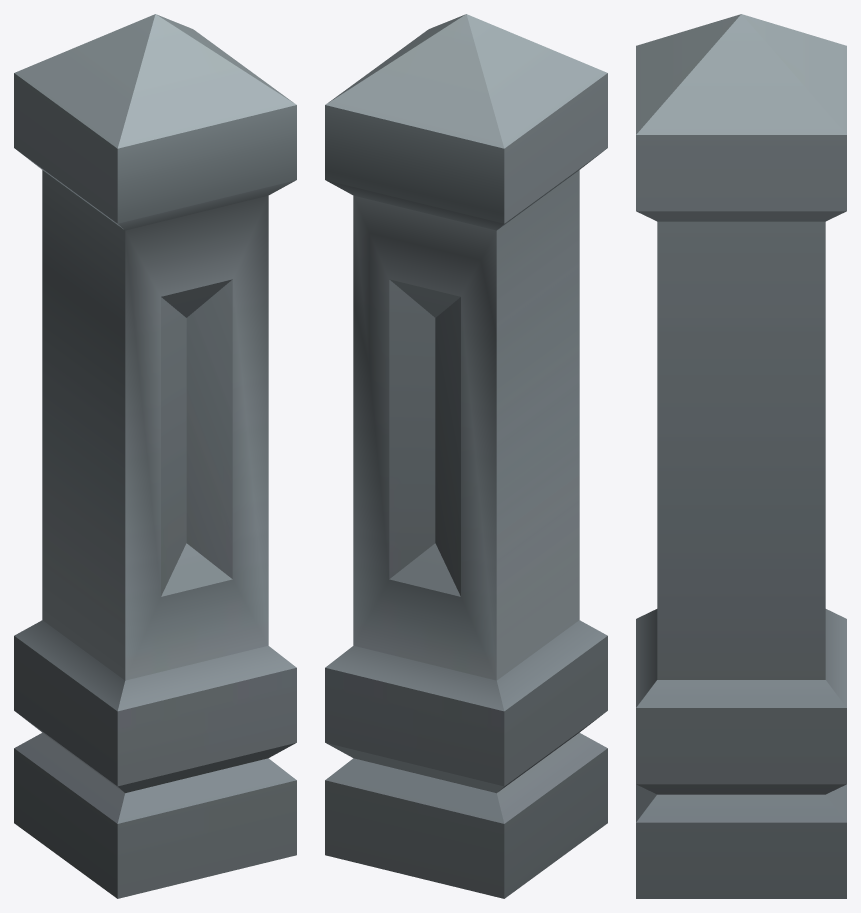
The model's file is fence-pillar.glb.
The picture shows the model from 3 angles, left to right: view 1: azimuth 30°, elevation 25°; view 2: azimuth 150°, elevation 25°; view 3: azimuth 270°, elevation 25°; orthographic projection.
Parts seen in each view (by area): view 1: fence_pillar; view 2: fence_pillar; view 3: fence_pillar.
Boxes of the visible parts, x1,y1,x2,y2 form: fence_pillar: (14,14,296,898); fence_pillar: (325,14,607,898); fence_pillar: (636,14,846,898).
Size of the model in its own units: 0.5001 by 2.2 by 0.5001.
1 material, 1 textured.
